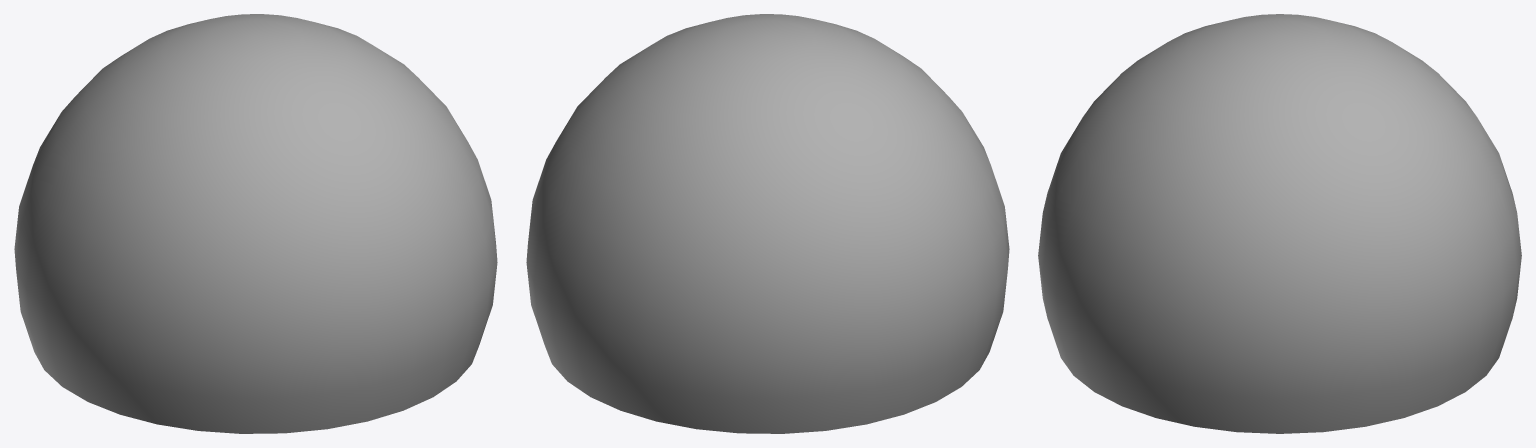
The model's file is soucoupeTop.gltf.
The picture shows the model from 3 angles, left to right: view 1: azimuth 30°, elevation 25°; view 2: azimuth 150°, elevation 25°; view 3: azimuth 270°, elevation 25°; orthographic projection.
Visible parts, largest first — view 1: Sphere; view 2: Sphere; view 3: Sphere.
Part boxes in pixels (left/top/right/bottom): Sphere: left=14, top=14, right=497, bottom=433; Sphere: left=526, top=14, right=1009, bottom=433; Sphere: left=1038, top=14, right=1521, bottom=433.
Bounding box in the file's own units: 3.01 × 2.08 × 3.01.
1 material, 1 textured.
